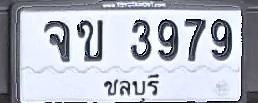3: (130, 18, 151, 60)
7: (184, 18, 206, 61)
9: (157, 18, 178, 61), (210, 18, 231, 60)
A02: (76, 18, 103, 61)
A08: (44, 20, 70, 62)
CBI: (100, 72, 162, 99)
